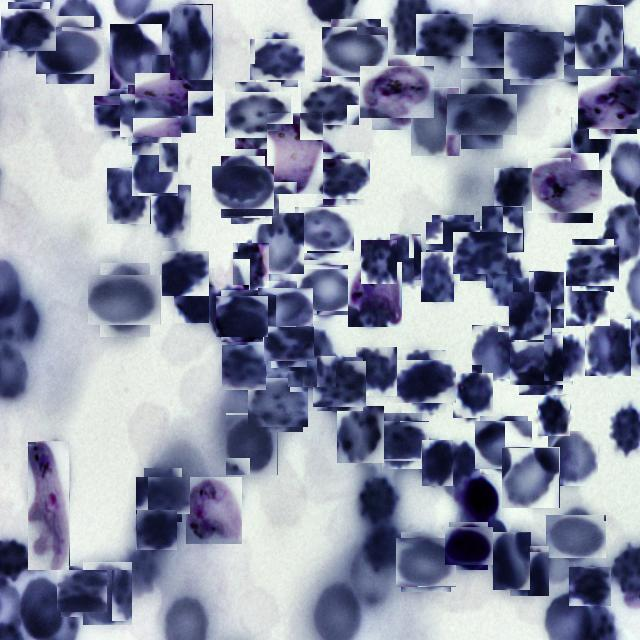leukocyte: (452, 477, 500, 521), (447, 524, 490, 568)
red blood cell: (94, 270, 156, 332), (502, 447, 560, 508), (411, 87, 460, 156), (110, 24, 162, 89), (326, 24, 384, 82), (41, 21, 99, 79), (170, 4, 213, 80), (226, 414, 278, 476), (83, 561, 133, 625), (252, 213, 304, 274), (230, 88, 286, 144), (398, 534, 454, 590), (454, 86, 510, 142), (575, 5, 624, 69), (250, 374, 306, 430), (300, 262, 354, 318), (514, 336, 568, 391), (507, 28, 561, 82), (397, 355, 451, 408), (554, 33, 608, 86), (217, 160, 270, 213), (298, 204, 352, 256), (478, 418, 530, 472), (288, 330, 336, 388), (124, 89, 176, 142), (548, 431, 598, 486), (550, 510, 602, 562), (465, 20, 517, 72), (337, 406, 384, 463), (585, 320, 631, 378), (472, 325, 520, 379), (304, 78, 355, 128), (132, 142, 179, 196), (107, 167, 151, 224), (315, 359, 365, 409), (420, 10, 470, 60), (522, 271, 565, 328), (4, 5, 54, 54), (260, 284, 310, 333), (252, 36, 302, 84), (566, 274, 610, 328), (486, 252, 530, 306), (174, 267, 216, 323), (209, 285, 249, 343), (378, 417, 426, 465), (228, 172, 276, 220), (429, 218, 477, 266), (568, 242, 616, 290), (456, 230, 504, 278), (218, 292, 266, 340), (151, 184, 192, 238), (571, 116, 612, 170), (320, 155, 367, 202), (493, 532, 531, 590), (361, 475, 401, 529), (140, 472, 186, 518), (162, 250, 208, 296), (59, 568, 105, 614), (509, 291, 552, 340), (510, 545, 550, 596), (222, 345, 267, 390), (356, 347, 397, 396), (482, 206, 524, 252), (544, 336, 586, 382), (98, 92, 141, 135), (267, 322, 310, 364), (453, 373, 493, 418), (233, 242, 270, 290), (390, 233, 422, 286), (421, 252, 454, 302), (494, 168, 532, 211), (570, 566, 610, 606), (136, 510, 176, 550), (361, 240, 397, 284), (420, 440, 452, 486), (538, 394, 570, 436)
trophozoite: (28, 441, 70, 570), (261, 119, 329, 188), (533, 153, 598, 218), (366, 61, 430, 124), (186, 477, 242, 544), (143, 64, 204, 124), (580, 72, 640, 132), (348, 262, 402, 327)
